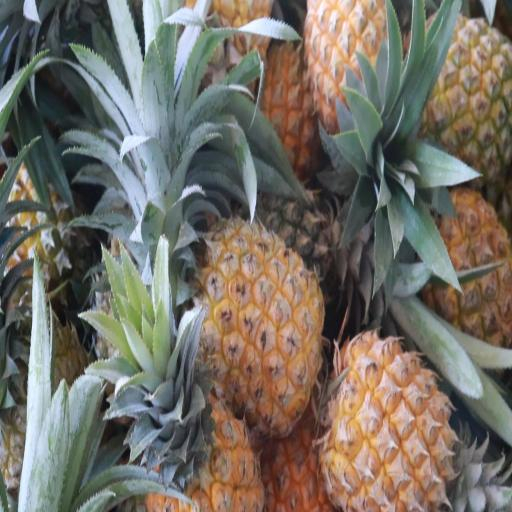Pineapple - v8 v1: (198, 220, 320, 429), (322, 333, 456, 512), (129, 355, 263, 512), (419, 184, 512, 346), (307, 0, 404, 149), (419, 22, 512, 176)
